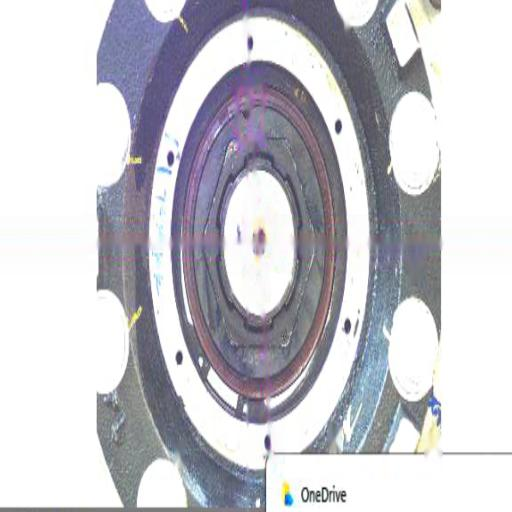center: (252, 227, 270, 253)
notch: (238, 106, 258, 126)
